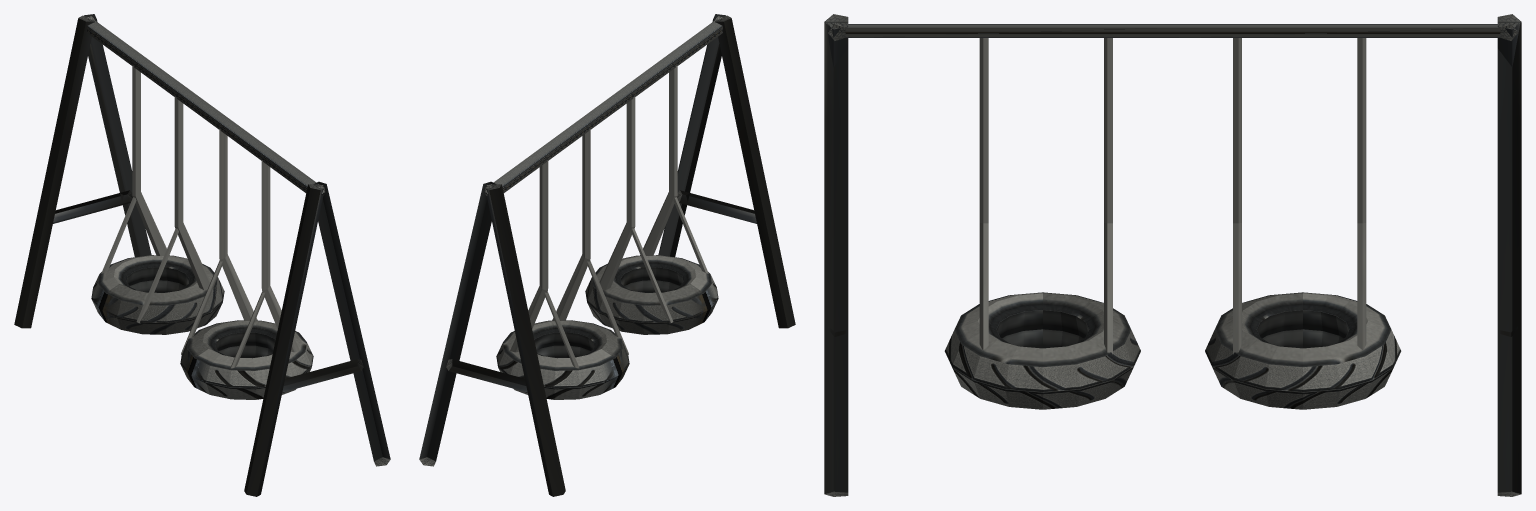
File: swingset.gltf
3 renders of one model, left to right at view 1: azimuth 30°, elevation 25°; view 2: azimuth 150°, elevation 25°; view 3: azimuth 270°, elevation 25°, orthographic. The views are drawn at different scales.
Parts seen in each view (by area): view 1: Swing set; view 2: Swing set; view 3: Swing set.
Boxes of the visible parts, x1,y1,x2,y2 form: Swing set: (14,14,390,496); Swing set: (419,14,795,496); Swing set: (824,14,1521,496).
Bounding box in the file's own units: 1.95 × 3.81 × 5.58.
Materials: 1 (1 with a texture image).
